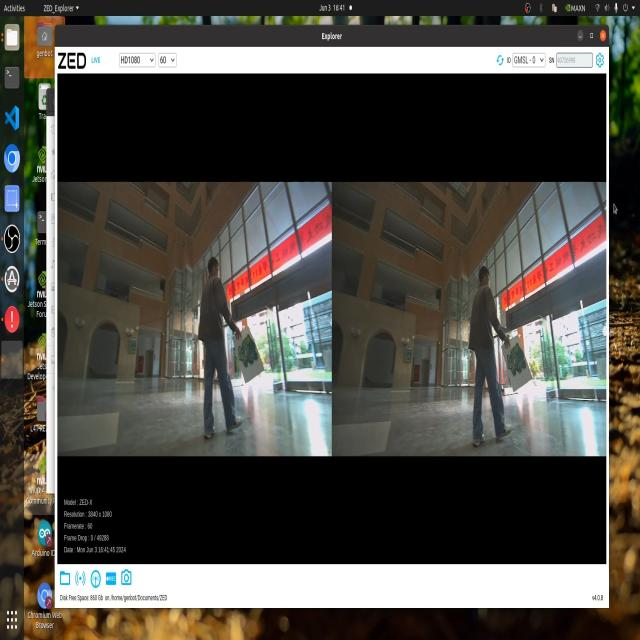green: (500, 342, 524, 383), (240, 332, 259, 373)
